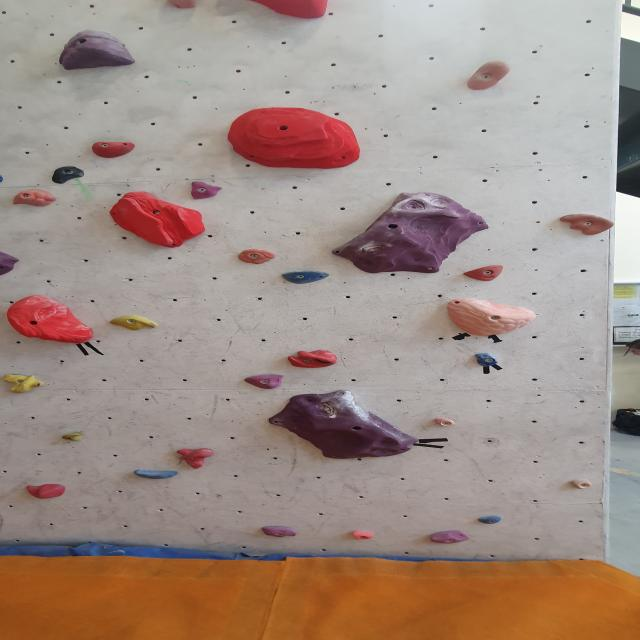Crimp: (106, 312, 165, 330), (128, 466, 185, 484), (10, 188, 59, 208), (88, 140, 137, 160), (422, 528, 476, 546), (462, 264, 506, 284), (278, 269, 332, 285), (188, 180, 224, 200), (258, 525, 303, 540), (467, 351, 505, 368), (239, 247, 277, 263), (562, 476, 601, 491), (470, 513, 509, 527), (430, 417, 462, 432), (61, 429, 88, 442), (351, 530, 379, 541)
Jug: (465, 59, 516, 93), (554, 212, 618, 236), (0, 372, 54, 396), (179, 446, 215, 469)
Sloper: (327, 188, 487, 274), (222, 108, 366, 171), (102, 192, 210, 250), (7, 298, 98, 347), (441, 295, 540, 336), (54, 28, 141, 71), (230, 0, 332, 21), (286, 349, 340, 368), (242, 374, 286, 392), (0, 248, 22, 280), (24, 484, 72, 498)
